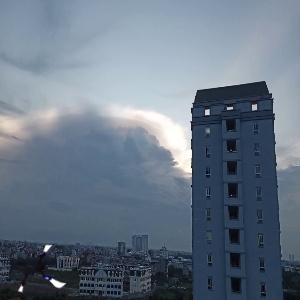drone: (15, 243, 67, 295)
